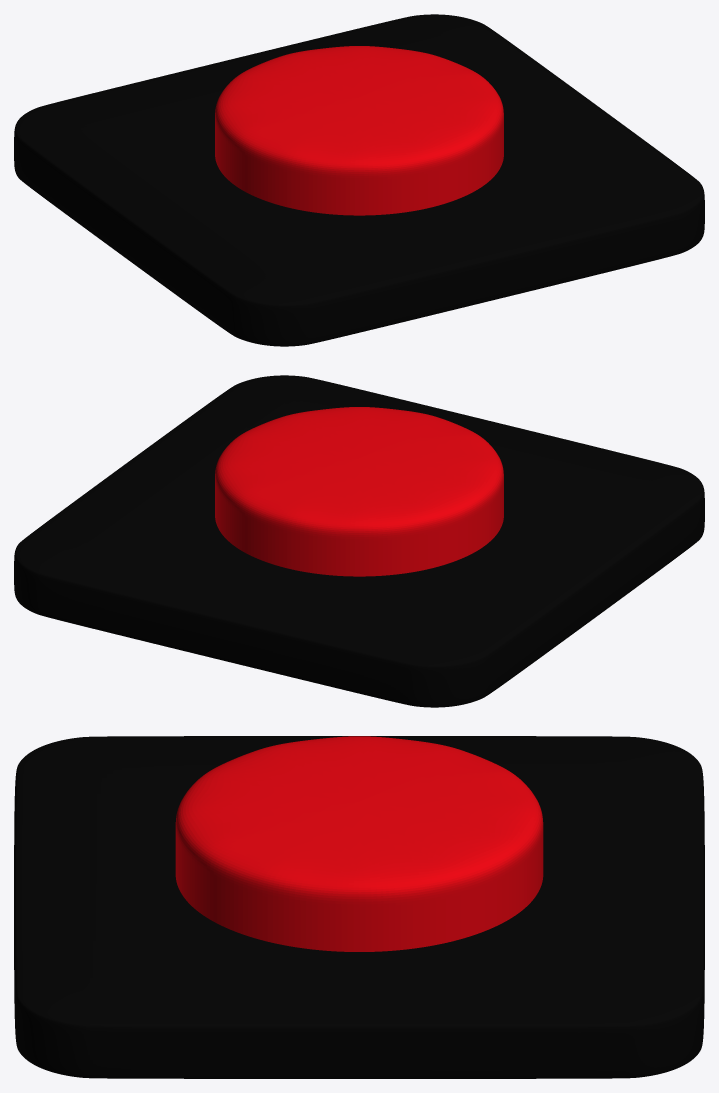
Rendered from Button.fbx.
The picture shows the model from 3 angles, top to bottom: view 1: azimuth 30°, elevation 25°; view 2: azimuth 150°, elevation 25°; view 3: azimuth 270°, elevation 25°; orthographic projection. The views are drawn at different scales.
Visible parts, largest first — view 1: Cube, Cylinder; view 2: Cube, Cylinder; view 3: Cube, Cylinder.
Part boxes in pixels (x1,y1,x2,y2): Cube: (14, 14, 704, 346); Cylinder: (215, 46, 503, 215); Cube: (14, 375, 704, 707); Cylinder: (215, 407, 503, 576); Cube: (14, 736, 704, 1078); Cylinder: (175, 736, 543, 951).
Size of the model in its own units: 37.29 by 8.27 by 37.29.
